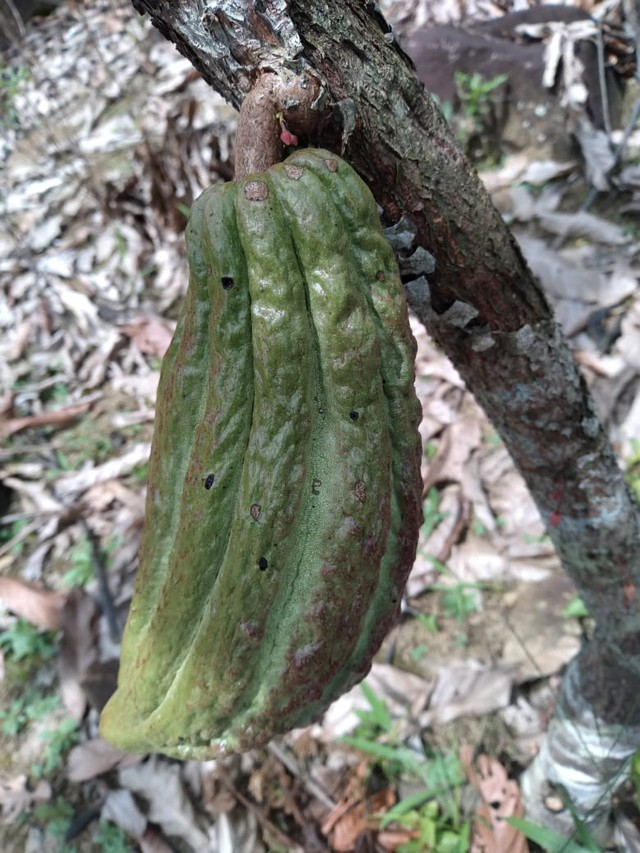Health: (65, 153, 460, 789)
